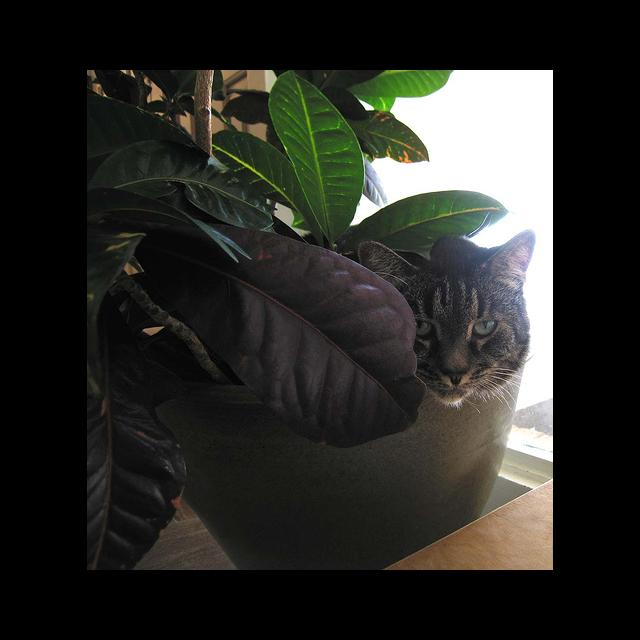animals: (363, 231, 531, 382)
